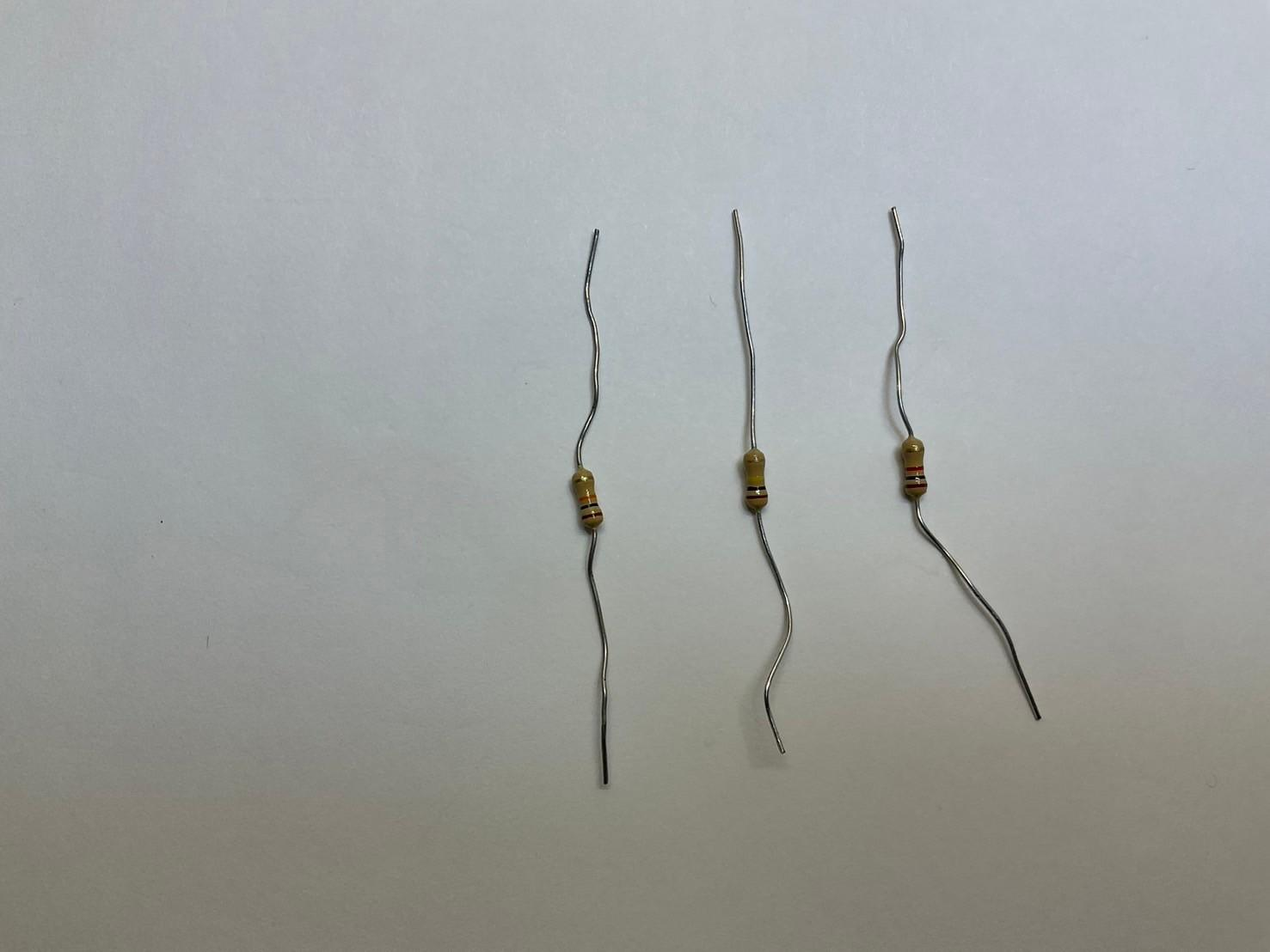resistor: (567, 469, 605, 529), (898, 438, 931, 502), (738, 445, 768, 514)
